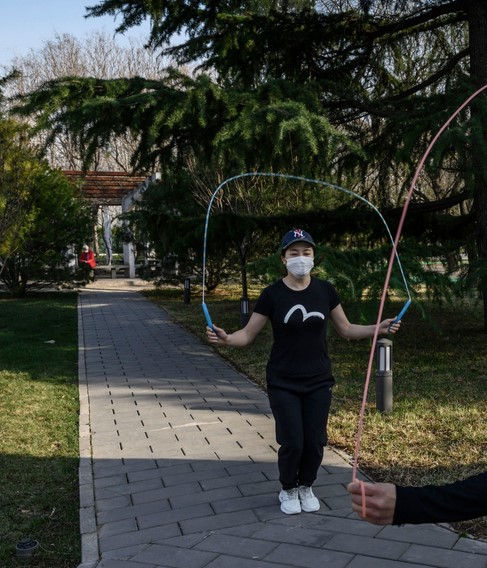face_with_mask: (277, 230, 320, 283)
